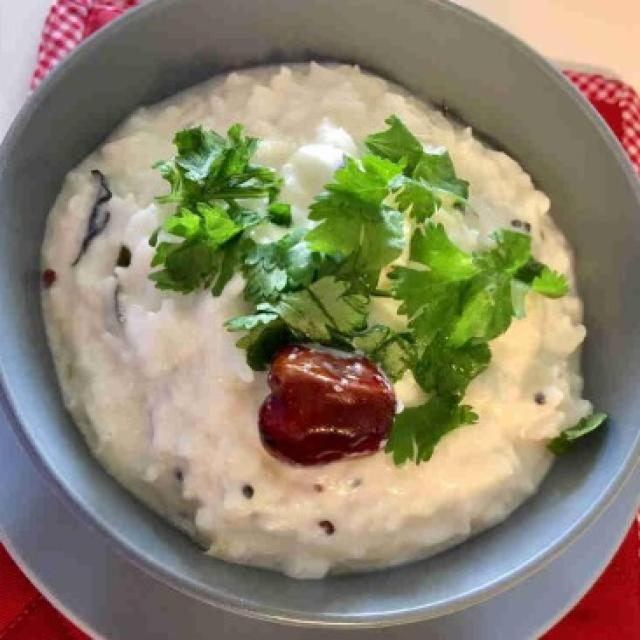CURD RICE: (37, 53, 591, 576)
